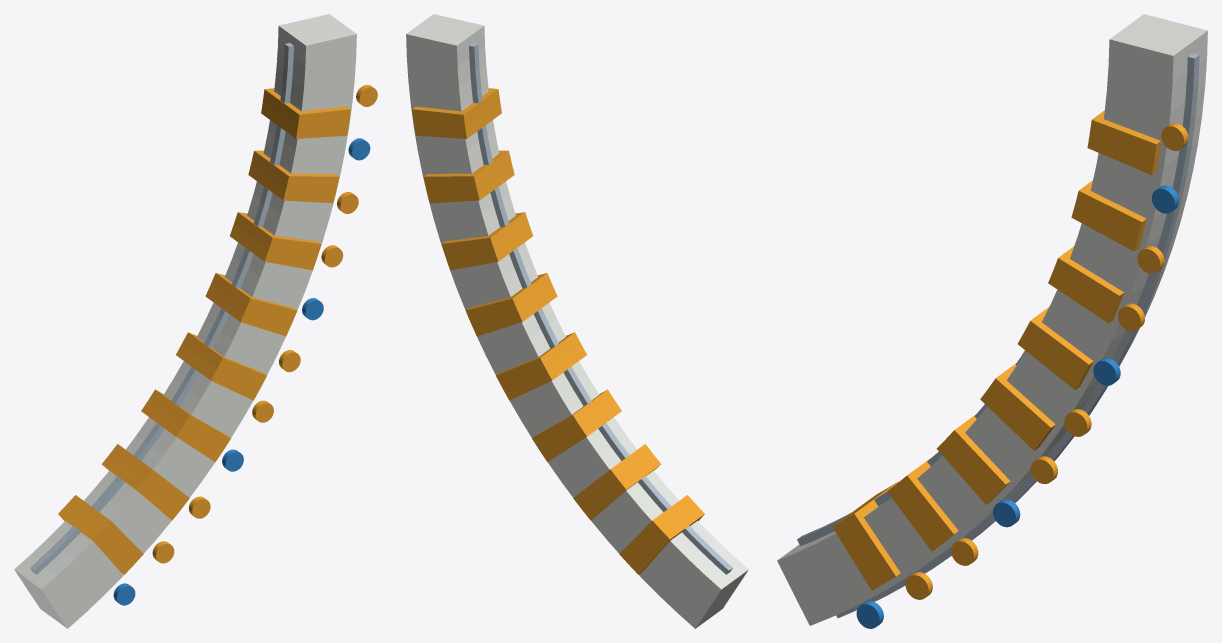
The model's file is 10_L87_HabitatSegmentF.fbx.
The picture shows the model from 3 angles, left to right: view 1: azimuth 30°, elevation 25°; view 2: azimuth 150°, elevation 25°; view 3: azimuth 330°, elevation 25°; orthographic projection. The views are drawn at different scales.
Parts seen in each view (by area): view 1: L87_HabitatSegmentF_Part_0000, L87_HabitatSegmentF_Part_0003, L87_HabitatSegmentF_Part_0001, L87_HabitatSegmentF_Part_0002; view 2: L87_HabitatSegmentF_Part_0000, L87_HabitatSegmentF_Part_0003, L87_HabitatSegmentF_Part_0001; view 3: L87_HabitatSegmentF_Part_0000, L87_HabitatSegmentF_Part_0003, L87_HabitatSegmentF_Part_0001, L87_HabitatSegmentF_Part_0002.
Part boxes in pixels (x1,y1,x2,y2): L87_HabitatSegmentF_Part_0000: (14,14,356,628); L87_HabitatSegmentF_Part_0003: (58,85,377,574); L87_HabitatSegmentF_Part_0001: (30,43,293,574); L87_HabitatSegmentF_Part_0002: (113,138,370,605); L87_HabitatSegmentF_Part_0000: (406,14,748,628); L87_HabitatSegmentF_Part_0003: (412,88,704,574); L87_HabitatSegmentF_Part_0001: (469,43,732,574); L87_HabitatSegmentF_Part_0000: (777,14,1207,625); L87_HabitatSegmentF_Part_0003: (832,110,1188,599); L87_HabitatSegmentF_Part_0001: (797,53,1199,618); L87_HabitatSegmentF_Part_0002: (856,185,1179,628).
Size of the model in its own units: 305 by 463 by 59.75.
